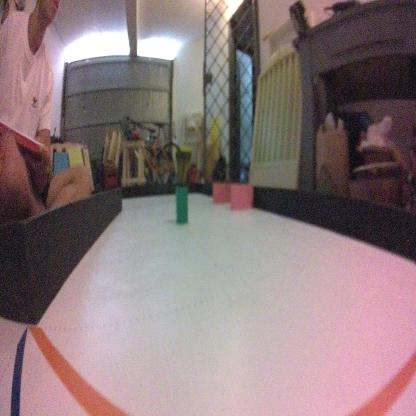green: (173, 184, 189, 222)
magenta: (229, 178, 253, 214), (213, 178, 234, 204)
